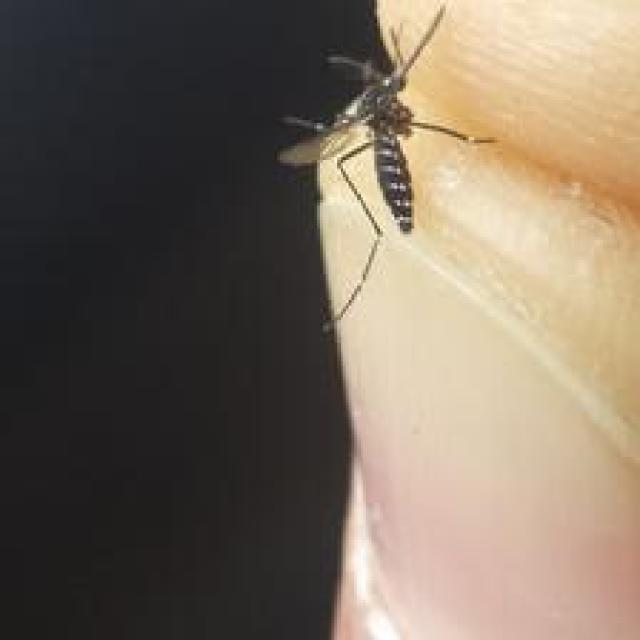Aedes albopictus: (274, 1, 497, 333)
